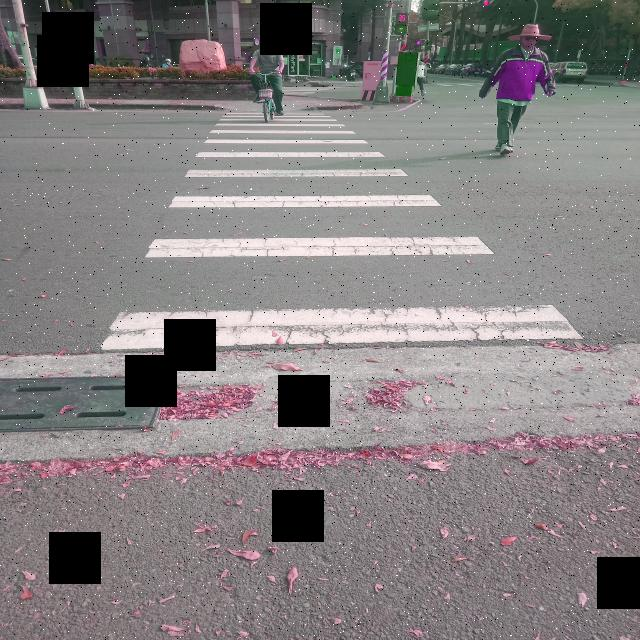zebra_crossing: (106, 108, 582, 350), (478, 25, 555, 155), (250, 34, 285, 115), (417, 61, 427, 96)
